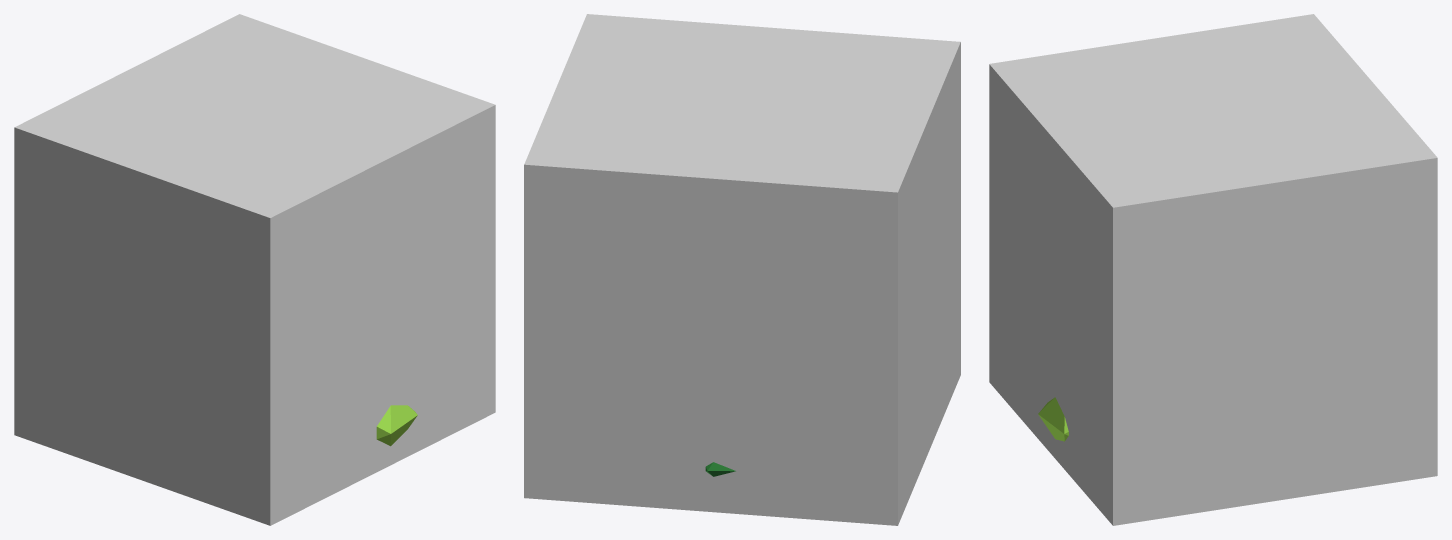
File: jungle_pet5.fbx
3 views of the same model, side by side, from view 1: azimuth 30°, elevation 25°; view 2: azimuth 150°, elevation 25°; view 3: azimuth 270°, elevation 25° (orthographic). The views are drawn at different scales.
Visible parts, largest first — view 1: Root__0.00_0.48_-0.01__0.98_0.95_0.93, Seg1__Root__0.00_0.17_0.00; view 2: Root__0.00_0.48_-0.01__0.98_0.95_0.93; view 3: Root__0.00_0.48_-0.01__0.98_0.95_0.93, Seg1__Root__0.00_0.17_0.00.
Boxes of the visible parts, x1=… form: Root__0.00_0.48_-0.01__0.98_0.95_0.93: x1=14, y1=14, x2=495, y2=525; Seg1__Root__0.00_0.17_0.00: x1=376, y1=405, x2=417, y2=446; Root__0.00_0.48_-0.01__0.98_0.95_0.93: x1=524, y1=14, x2=960, y2=525; Root__0.00_0.48_-0.01__0.98_0.95_0.93: x1=989, y1=14, x2=1437, y2=525; Seg1__Root__0.00_0.17_0.00: x1=1038, y1=397, x2=1068, y2=441.
Bounding box in the file's own units: 34.74 × 26.6 × 33.99.
Materials: 1 (1 with a texture image).
